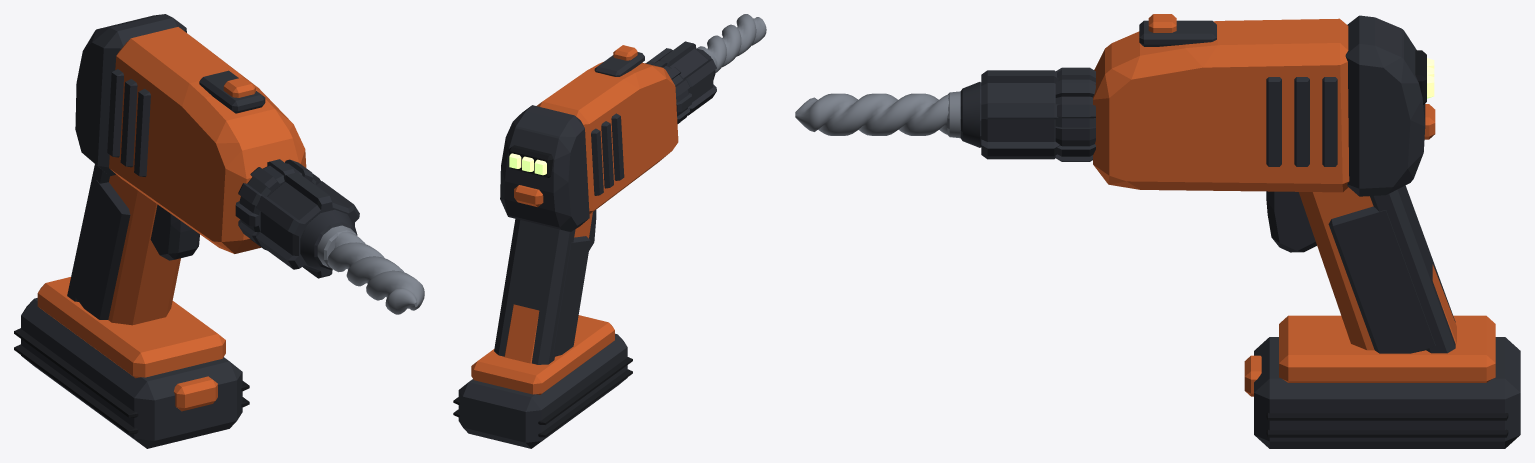
The model's file is w_revolver@revolver_drill.glb.
3 views of the same model, side by side, from view 1: azimuth 30°, elevation 25°; view 2: azimuth 150°, elevation 25°; view 3: azimuth 270°, elevation 25° (orthographic). The views are drawn at different scales.
Parts seen in each view (by area): view 1: body_wzA__orange__pd0602a, battery_wzB__rubber__p2b2e35, battery_wzA__orange__pd0602a, body_wzB__rubber__p2b2e35, cylinder_wzB__rubber__p2b2e35, grip_wzA__orange__pd0602a, grip_wzB__rubber__p2b2e35, body_wzN__rubber__p2b2e35, cylinder_wzN__steel__p7a808a, battery_wzN__black__p16171b, grip_wzN__rubber__p2b2e35, battery_wzN__orange__pd0602a (+1 smaller); view 2: body_wzA__orange__pd0602a, grip_wzB__rubber__p2b2e35, body_wzB__rubber__p2b2e35, battery_wzB__rubber__p2b2e35, battery_wzA__orange__pd0602a, body_wzN__rubber__p2b2e35, cylinder_wzB__rubber__p2b2e35, cylinder_wzN__steel__p7a808a, grip_wzA__orange__pd0602a, battery_wzN__black__p16171b, body_wzN__orange__pd0602a, body_wzN__black__p16171b (+1 smaller); view 3: body_wzA__orange__pd0602a, battery_wzB__rubber__p2b2e35, body_wzB__rubber__p2b2e35, grip_wzB__rubber__p2b2e35, battery_wzA__orange__pd0602a, cylinder_wzB__rubber__p2b2e35, cylinder_wzN__steel__p7a808a, body_wzN__rubber__p2b2e35, grip_wzA__orange__pd0602a, battery_wzN__black__p16171b, grip_wzN__rubber__p2b2e35, body_wzN__orange__pd0602a.
Part boxes in pixels (x1=…): body_wzA__orange__pd0602a: x1=109, y1=27, x2=306, y2=253; battery_wzB__rubber__p2b2e35: x1=21, y1=298, x2=242, y2=448; battery_wzA__orange__pd0602a: x1=37, y1=277, x2=225, y2=378; body_wzB__rubber__p2b2e35: x1=75, y1=14, x2=320, y2=250; cylinder_wzB__rubber__p2b2e35: x1=256, y1=172, x2=359, y2=278; grip_wzA__orange__pd0602a: x1=108, y1=174, x2=180, y2=325; grip_wzB__rubber__p2b2e35: x1=67, y1=164, x2=130, y2=319; body_wzN__rubber__p2b2e35: x1=107, y1=69, x2=265, y2=176; cylinder_wzN__steel__p7a808a: x1=317, y1=225, x2=424, y2=314; battery_wzN__black__p16171b: x1=14, y1=328, x2=249, y2=433; grip_wzN__rubber__p2b2e35: x1=150, y1=204, x2=199, y2=260; battery_wzN__orange__pd0602a: x1=173, y1=376, x2=217, y2=411; body_wzA__orange__pd0602a: x1=537, y1=62, x2=678, y2=214; grip_wzB__rubber__p2b2e35: x1=494, y1=219, x2=590, y2=364; body_wzB__rubber__p2b2e35: x1=500, y1=61, x2=691, y2=231; battery_wzB__rubber__p2b2e35: x1=458, y1=333, x2=627, y2=448; battery_wzA__orange__pd0602a: x1=471, y1=315, x2=614, y2=394; body_wzN__rubber__p2b2e35: x1=591, y1=52, x2=644, y2=195; cylinder_wzB__rubber__p2b2e35: x1=647, y1=41, x2=716, y2=115; cylinder_wzN__steel__p7a808a: x1=697, y1=14, x2=766, y2=73; grip_wzA__orange__pd0602a: x1=504, y1=212, x2=592, y2=363; battery_wzN__black__p16171b: x1=453, y1=357, x2=632, y2=437; body_wzN__orange__pd0602a: x1=514, y1=45, x2=637, y2=206; body_wzN__black__p16171b: x1=508, y1=145, x2=553, y2=177; body_wzA__orange__pd0602a: x1=1093, y1=18, x2=1349, y2=192; battery_wzB__rubber__p2b2e35: x1=1254, y1=337, x2=1520, y2=448; body_wzB__rubber__p2b2e35: x1=1055, y1=15, x2=1425, y2=196; grip_wzB__rubber__p2b2e35: x1=1328, y1=185, x2=1455, y2=353; battery_wzA__orange__pd0602a: x1=1279, y1=315, x2=1495, y2=382; cylinder_wzB__rubber__p2b2e35: x1=960, y1=70, x2=1060, y2=159; cylinder_wzN__steel__p7a808a: x1=795, y1=91, x2=960, y2=138; body_wzN__rubber__p2b2e35: x1=1139, y1=20, x2=1337, y2=166; grip_wzA__orange__pd0602a: x1=1299, y1=187, x2=1456, y2=350; battery_wzN__black__p16171b: x1=1266, y1=413, x2=1508, y2=437; grip_wzN__rubber__p2b2e35: x1=1266, y1=191, x2=1316, y2=252; body_wzN__orange__pd0602a: x1=1148, y1=14, x2=1435, y2=139.
Bounding box in the file's own units: 0.0936 × 0.292 × 0.468.
